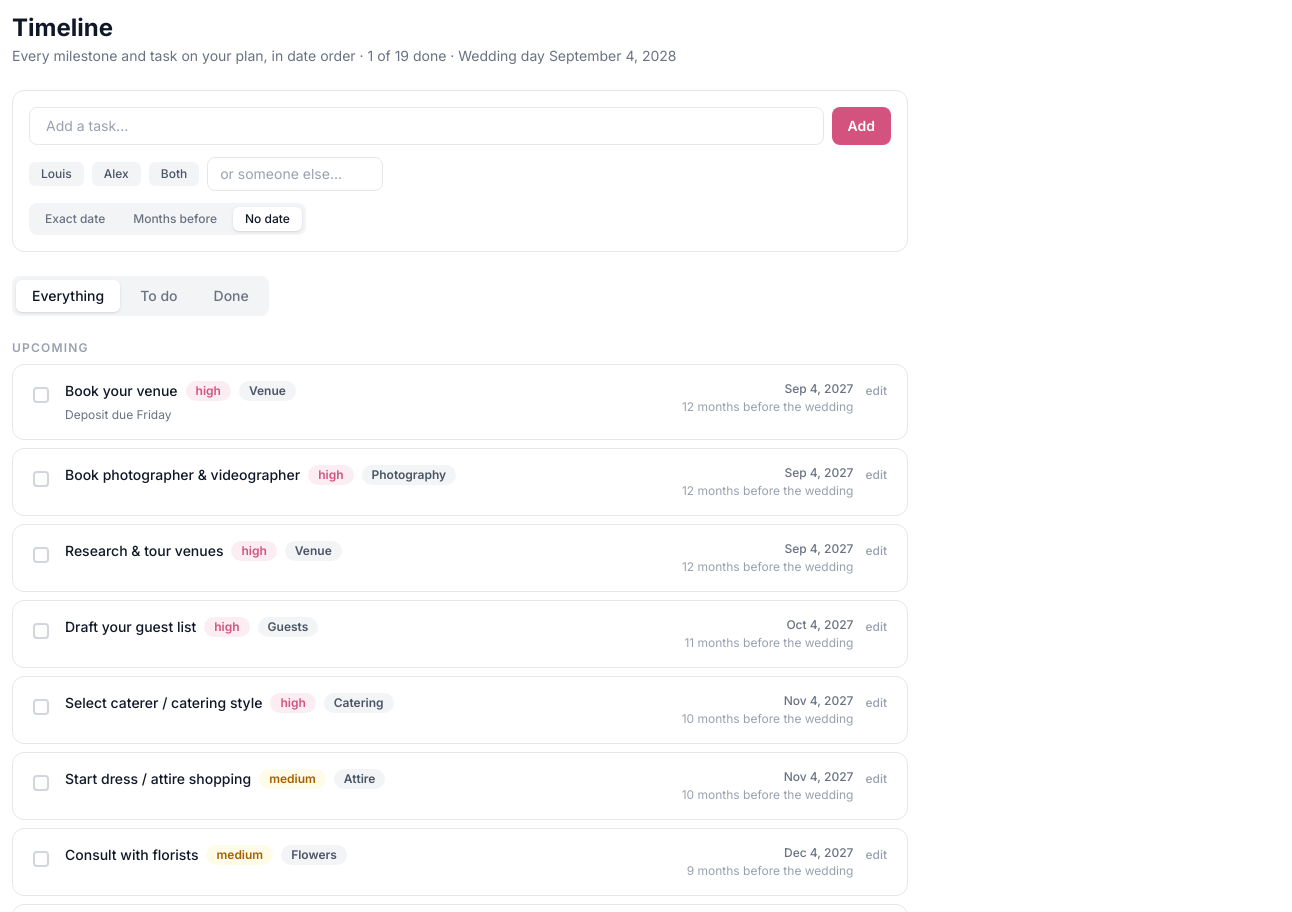
Timeline — task notes › loads existing notes back into the editor
The width and height of the screenshot is (1292, 912).
Click the button named "Edit \"Book your venue\"" at coordinates (876, 391), box [865,383,887,399]
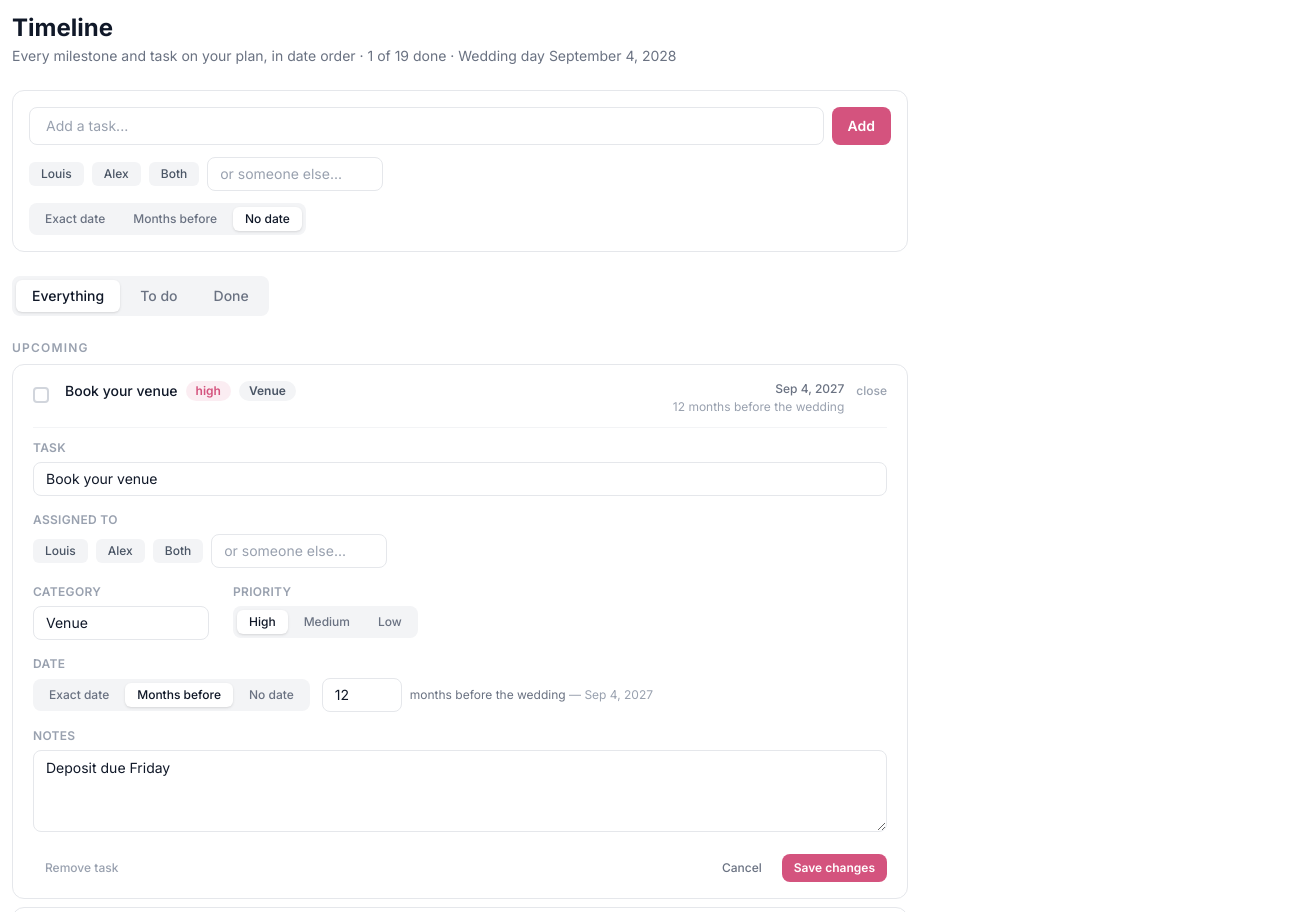
Check: the text box named "Book your venue notes" holds "Deposit due Friday", box [33,750,887,832]
